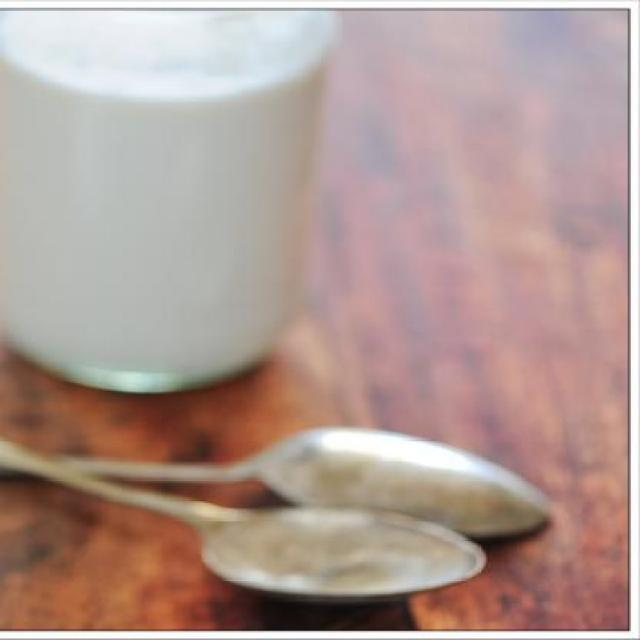Milk: (22, 0, 332, 383)
